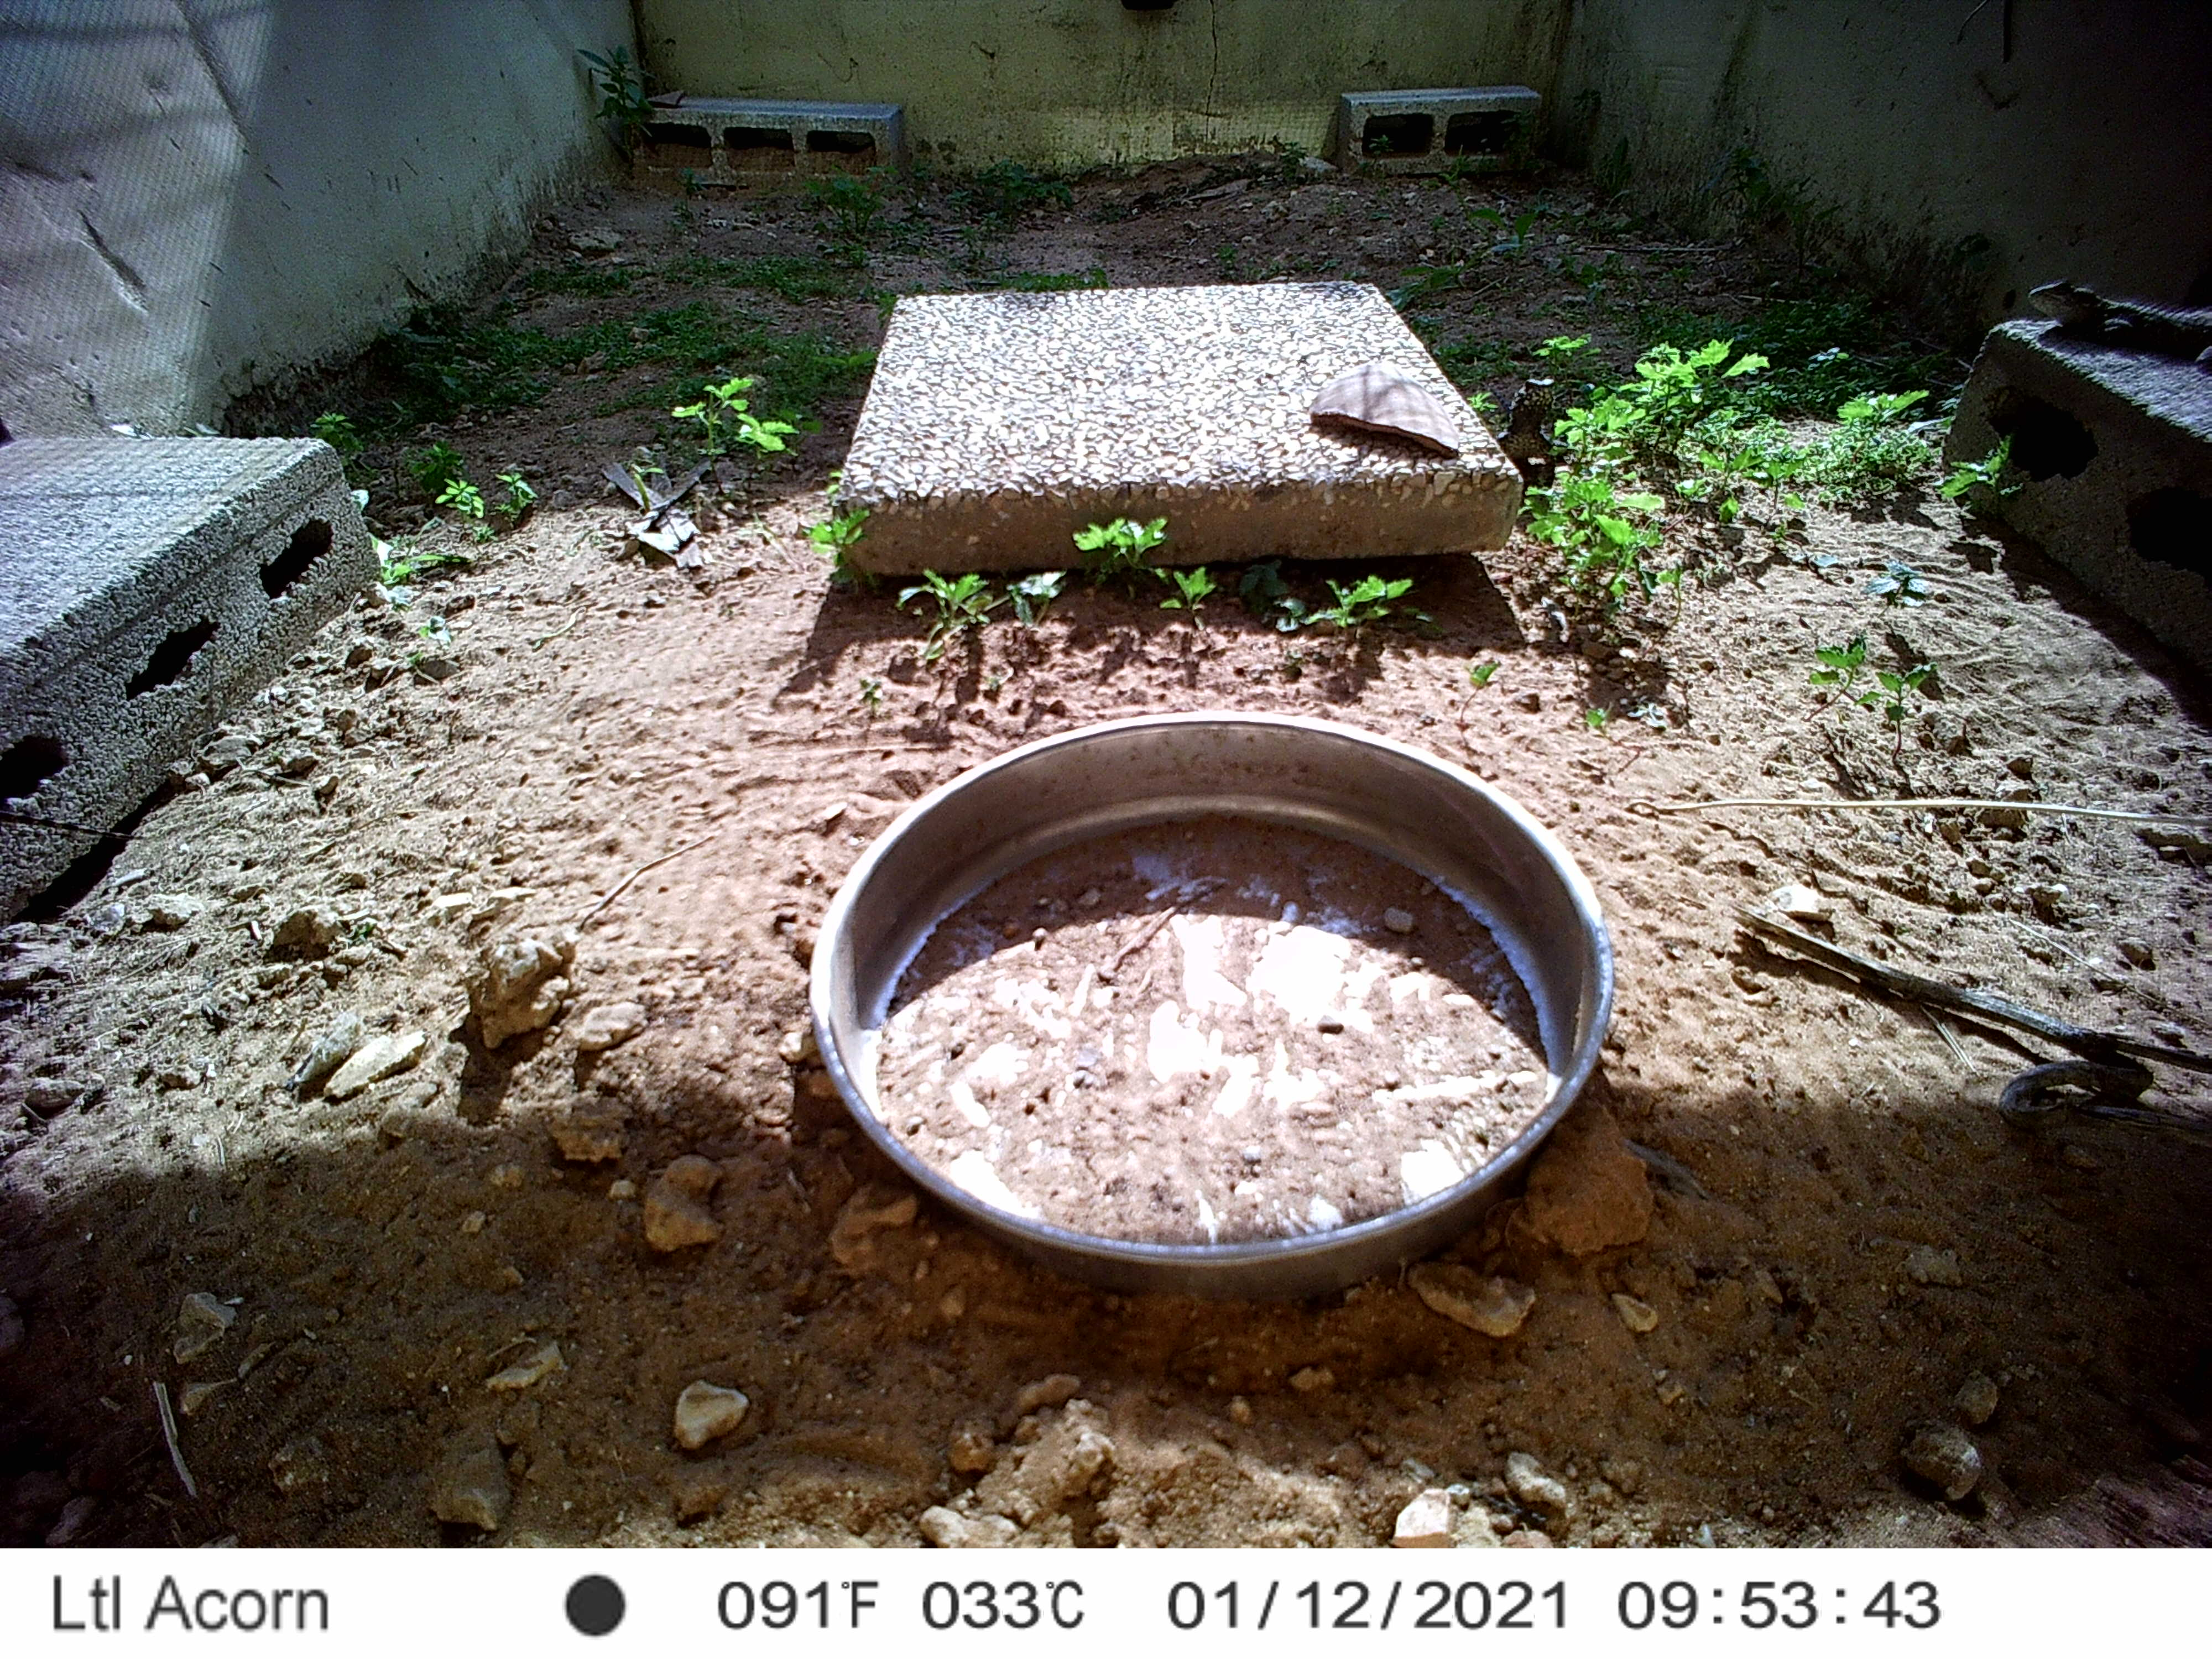lizard: (2024, 277, 2212, 376), (1491, 376, 1573, 469)
